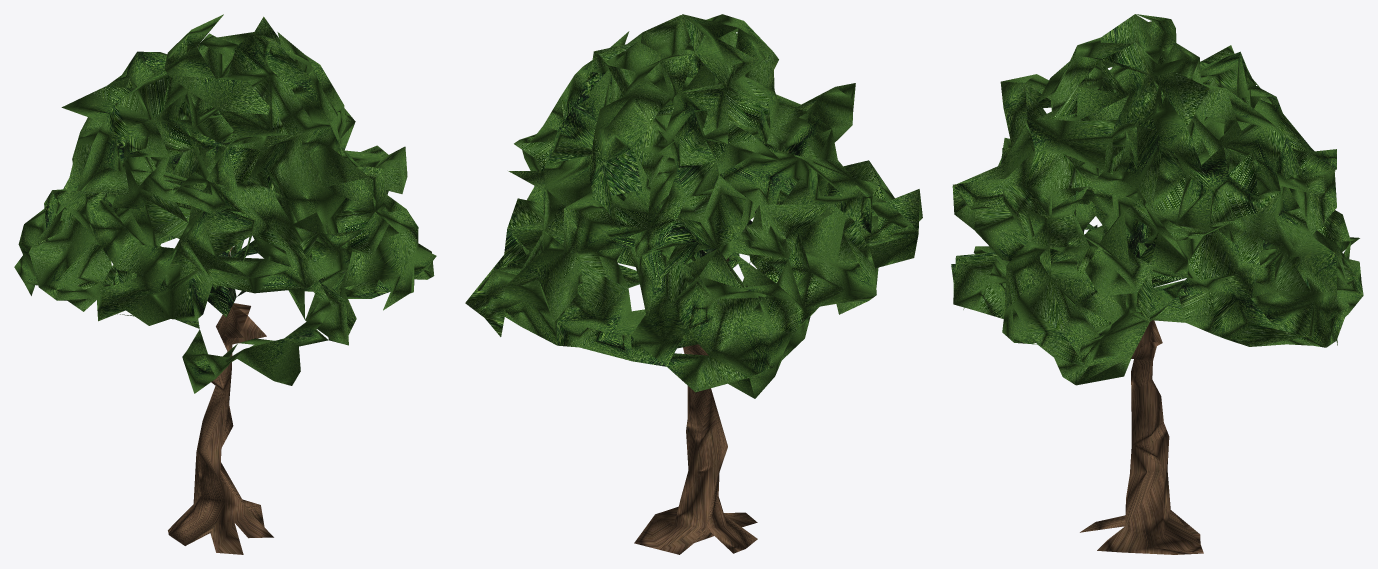
File: arvore_economica.glb
3 renders of one model, left to right at view 1: azimuth 30°, elevation 25°; view 2: azimuth 150°, elevation 25°; view 3: azimuth 270°, elevation 25°, orthographic. The views are drawn at different scales.
Parts seen in each view (by area): view 1: mesh_node; view 2: mesh_node; view 3: mesh_node.
Boxes of the visible parts, x1=… form: mesh_node: x1=14, y1=14, x2=436, y2=554; mesh_node: x1=465, y1=14, x2=922, y2=554; mesh_node: x1=951, y1=14, x2=1363, y2=554.
Bounding box in the file's own units: 1.34 × 1.82 × 1.3.
2 materials, 2 textured.
